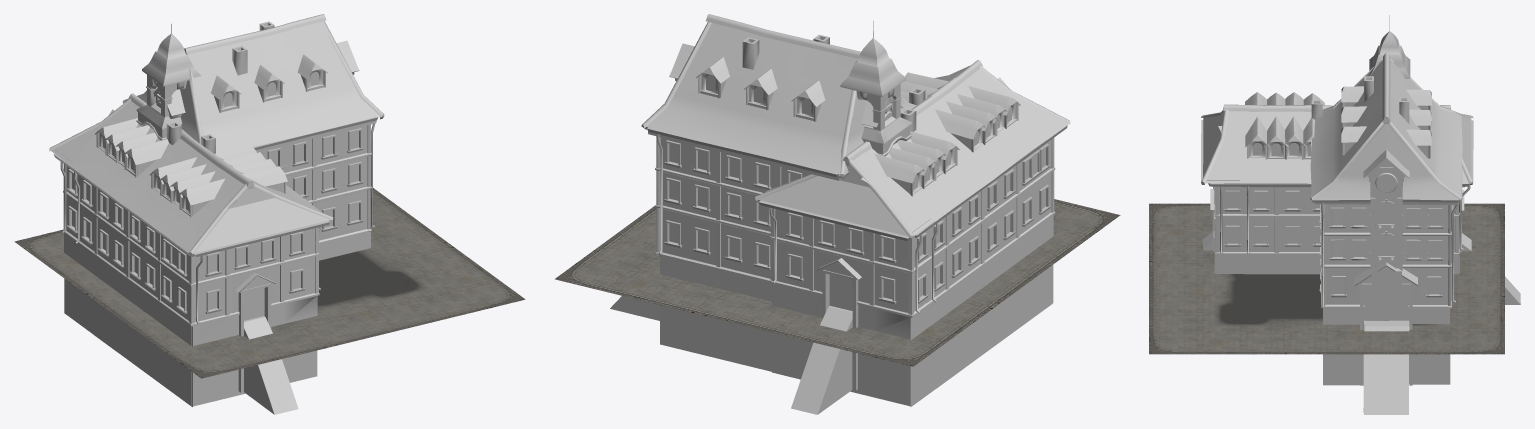
Rendered from townhall.gltf.
3 renders of one model, left to right at view 1: azimuth 30°, elevation 25°; view 2: azimuth 150°, elevation 25°; view 3: azimuth 270°, elevation 25°, orthographic. The views are drawn at different scales.
Visible parts, largest first — view 1: _townhall_lod0, file_decal1, file_decal4, file_decal3, file_decal2; view 2: _townhall_lod0, file_decal2, file_decal3, file_decal4; view 3: _townhall_lod0, file_decal1, file_decal2, file_decal4, file_decal3.
Boxes of the visible parts, x1=… form: _townhall_lod0: x1=49, y1=14, x2=384, y2=414; file_decal1: x1=317, y1=231, x2=525, y2=338; file_decal4: x1=108, y1=304, x2=362, y2=378; file_decal3: x1=14, y1=229, x2=133, y2=309; file_decal2: x1=370, y1=188, x2=431, y2=245; _townhall_lod0: x1=610, y1=14, x2=1070, y2=414; file_decal2: x1=555, y1=206, x2=764, y2=322; file_decal3: x1=734, y1=284, x2=1016, y2=366; file_decal4: x1=988, y1=199, x2=1120, y2=290; _townhall_lod0: x1=1201, y1=15, x2=1520, y2=414; file_decal1: x1=1149, y1=279, x2=1327, y2=354; file_decal2: x1=1326, y1=279, x2=1504, y2=354; file_decal4: x1=1149, y1=203, x2=1319, y2=278; file_decal3: x1=1453, y1=203, x2=1504, y2=278.
Size of the model in its own units: 4.11 by 3.76 by 4.29.
